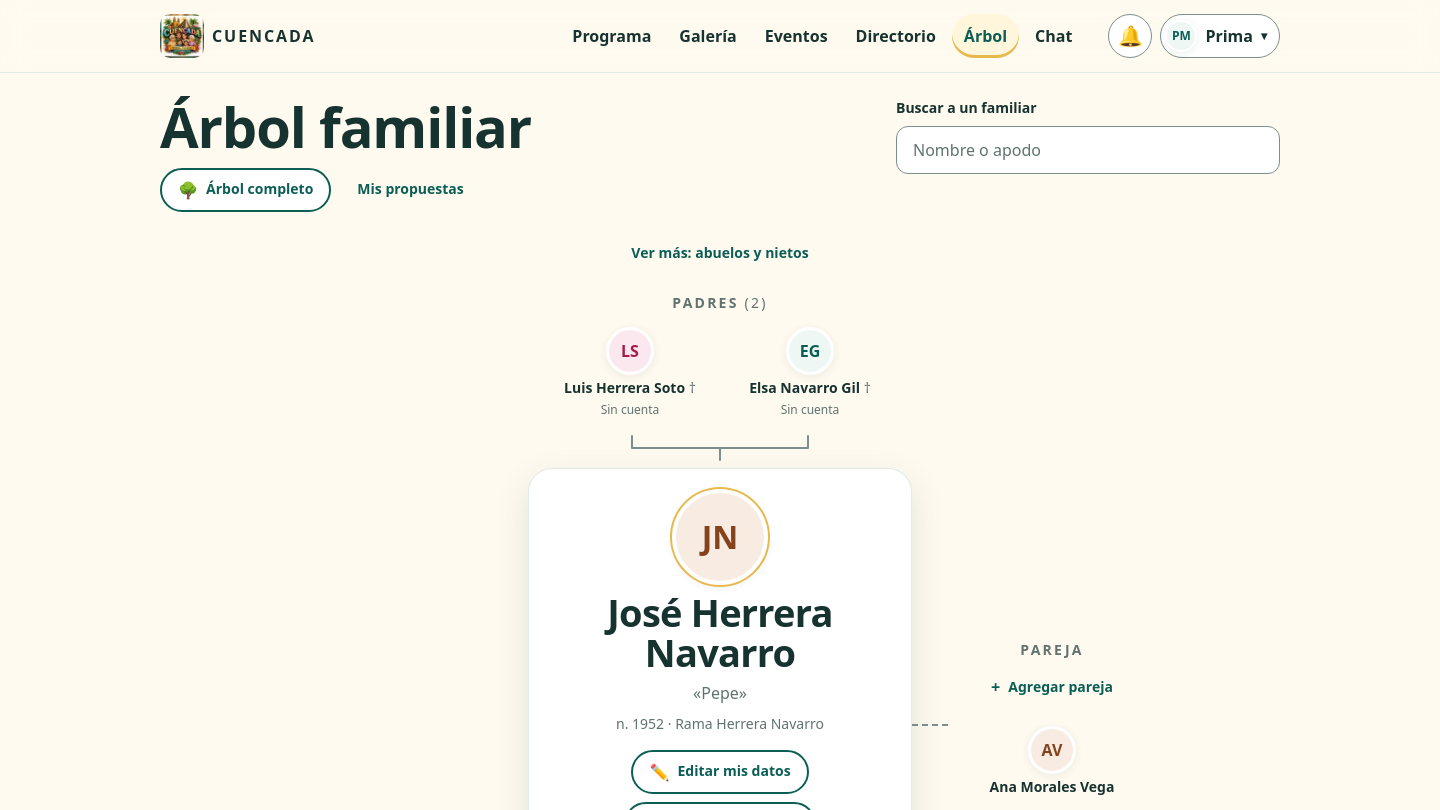
Test: FamilyTreePage › validates the birth year before sending
Click the button "✏️ Editar mis datos": [720, 772] box [631,750,809,794]
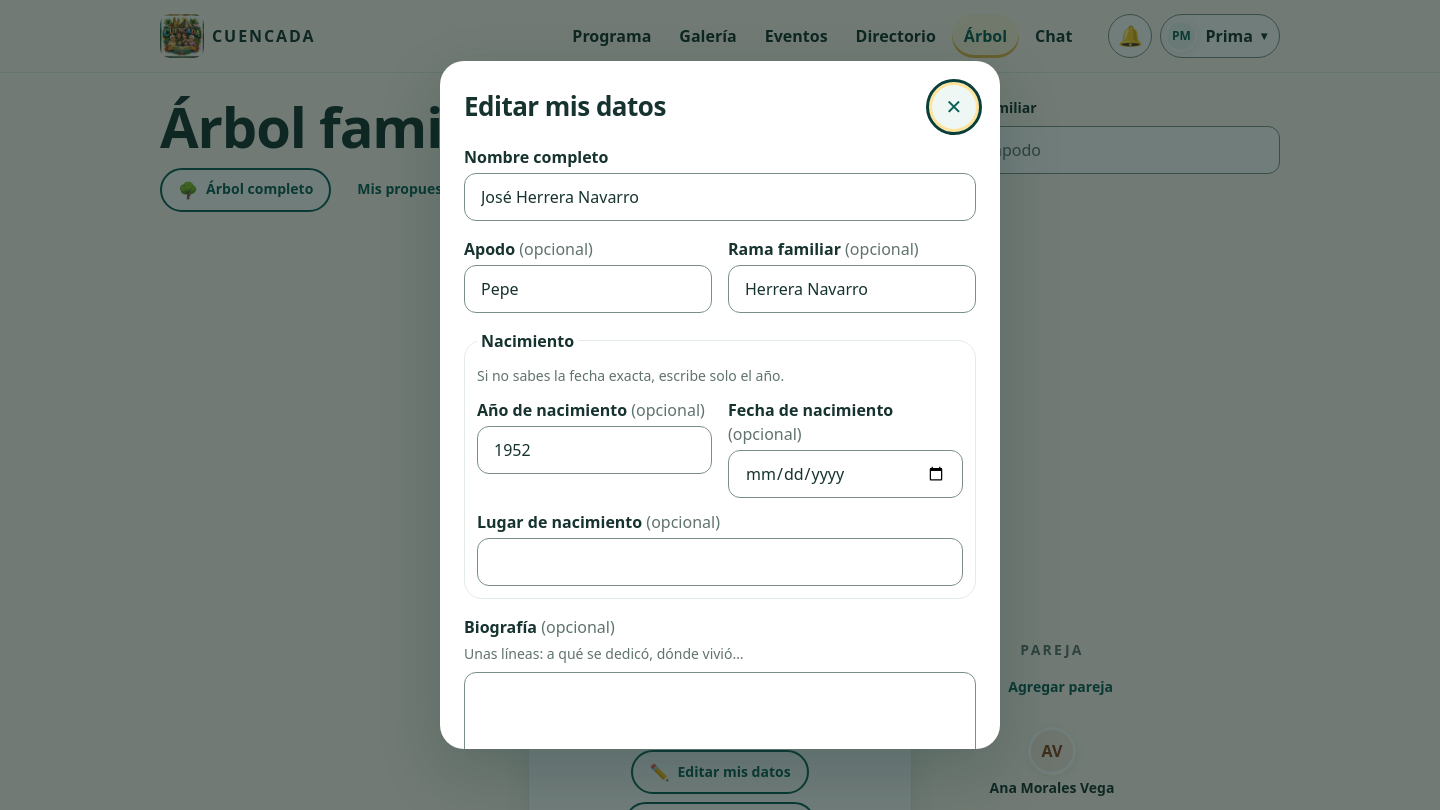
Replace the text in the field labelled "Año de nacimiento (opcional)" with "1700": [594, 450] box [477,426,712,474]
(page scrolled)
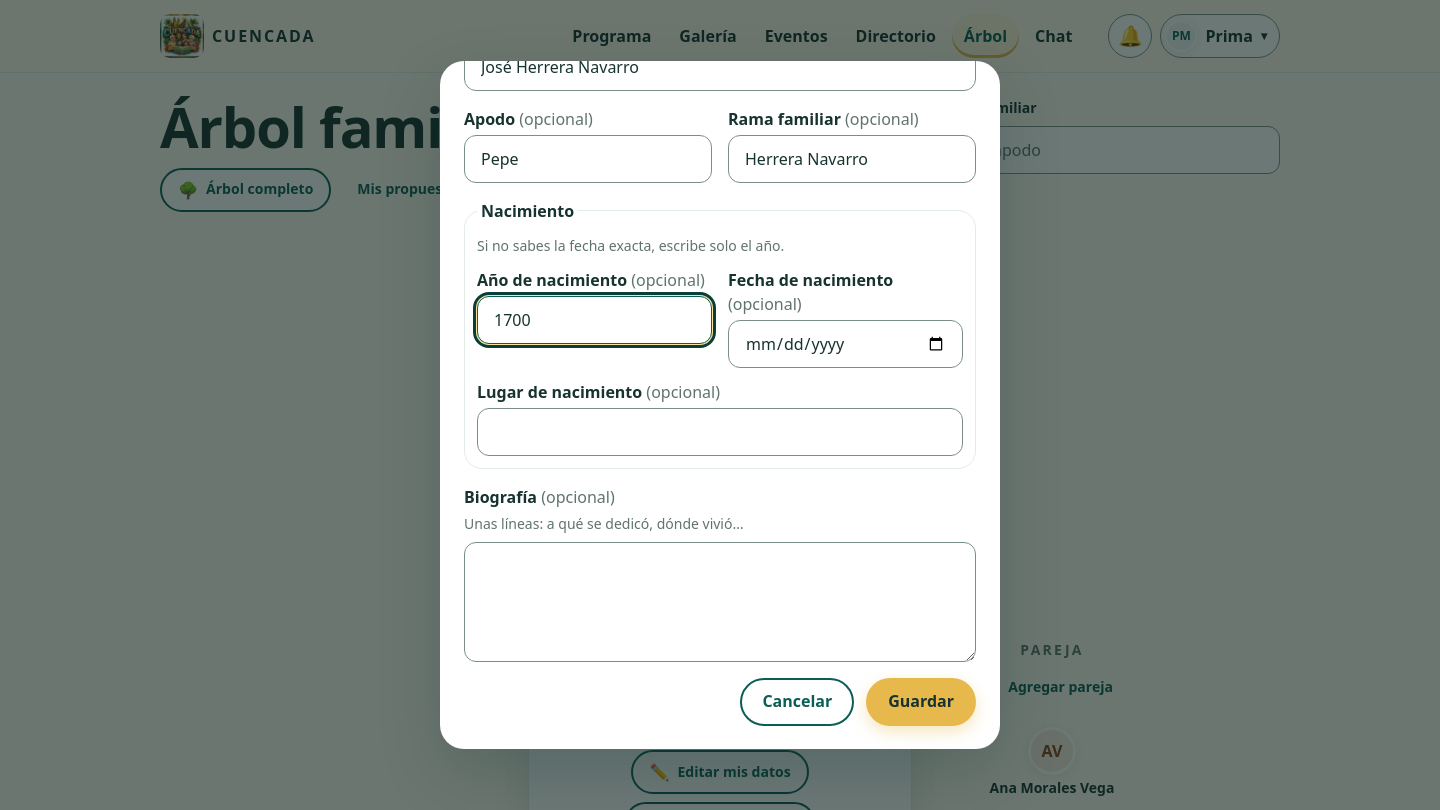
Click the button "Guardar": [921, 702] box [866,678,976,726]
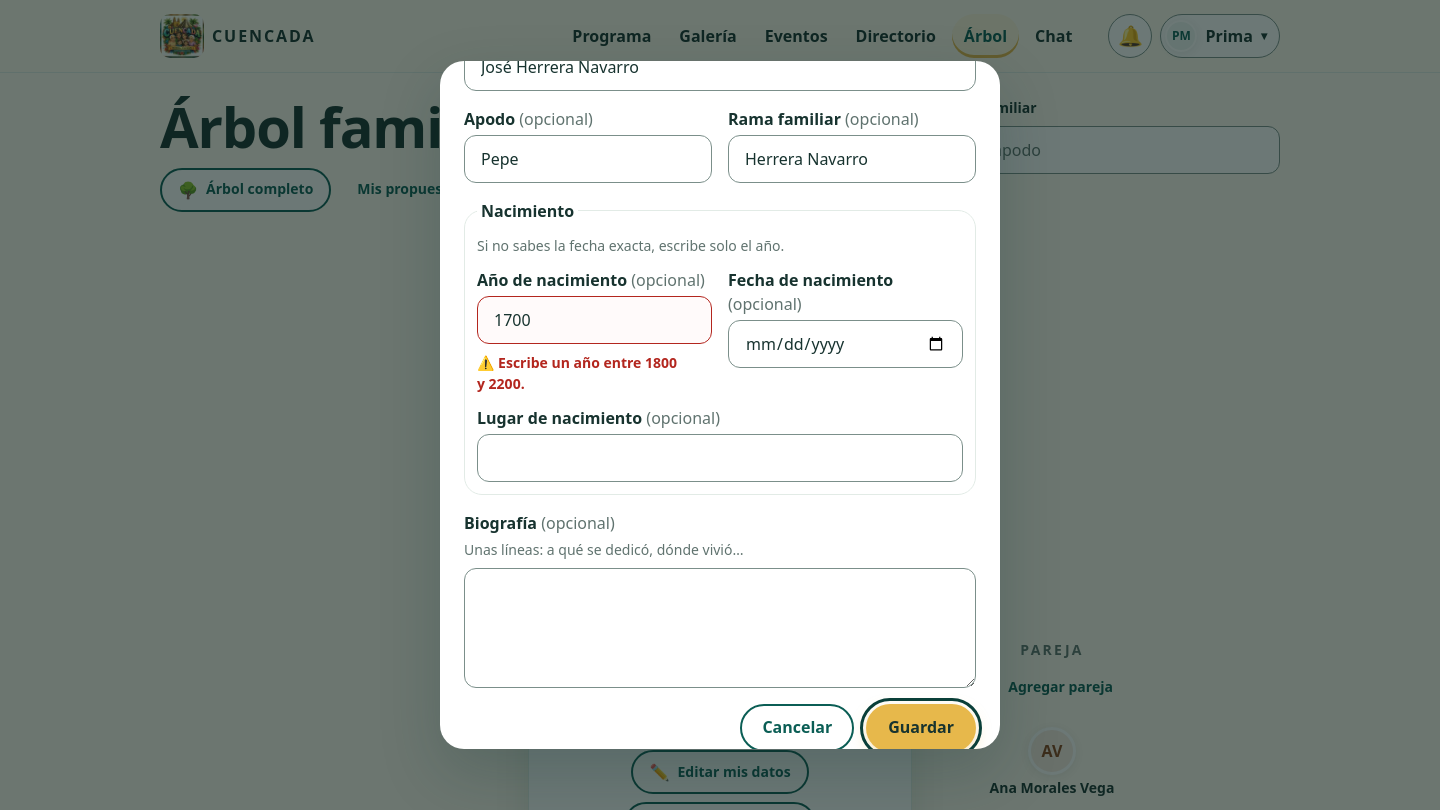
Expected: the text "Escribe un año entre 1800 y 2200." is shown, [477,353,677,393]
